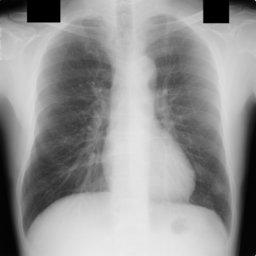left lobe: (147, 15, 230, 226)
right lobe: (24, 34, 112, 230)
